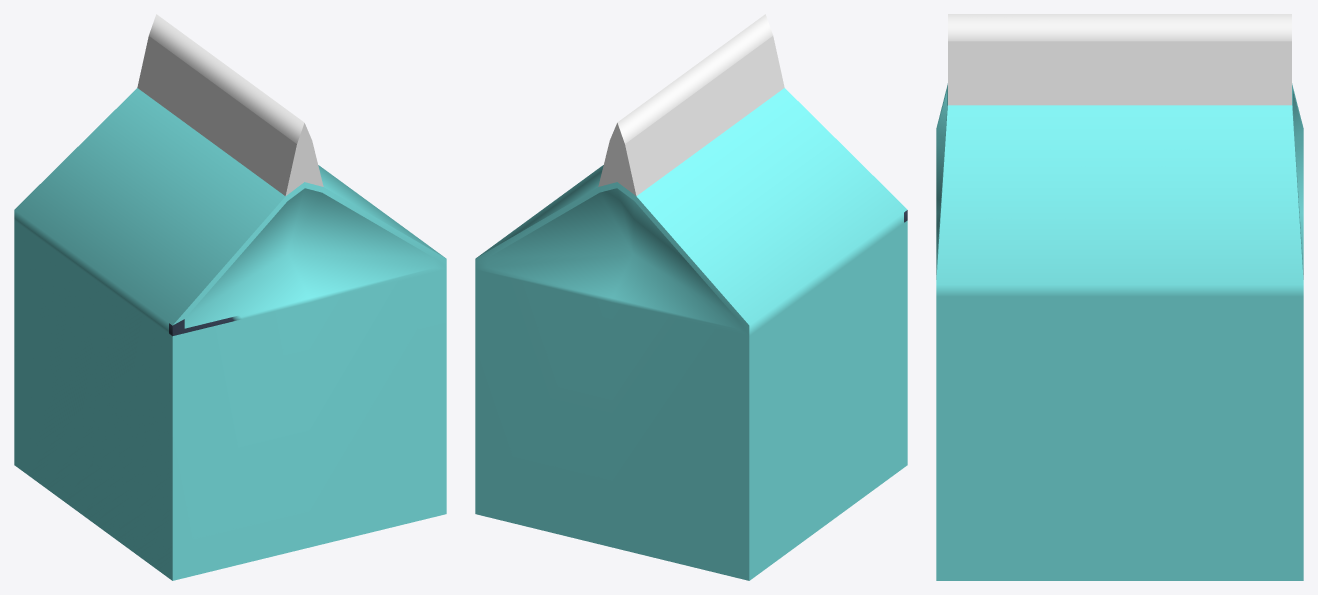
File: Unwrapped_milk.fbx
3 renders of one model, left to right at view 1: azimuth 30°, elevation 25°; view 2: azimuth 150°, elevation 25°; view 3: azimuth 270°, elevation 25°, orthographic. The views are drawn at different scales.
Visible parts, largest first — view 1: Box005; view 2: Box005; view 3: Box005.
Boxes of the visible parts, left/top/right/bottom form: Box005: left=14, top=14, right=446, bottom=580; Box005: left=475, top=14, right=907, bottom=580; Box005: left=936, top=14, right=1303, bottom=580.
Size of the model in its own units: 25.4 by 37.31 by 25.4.
